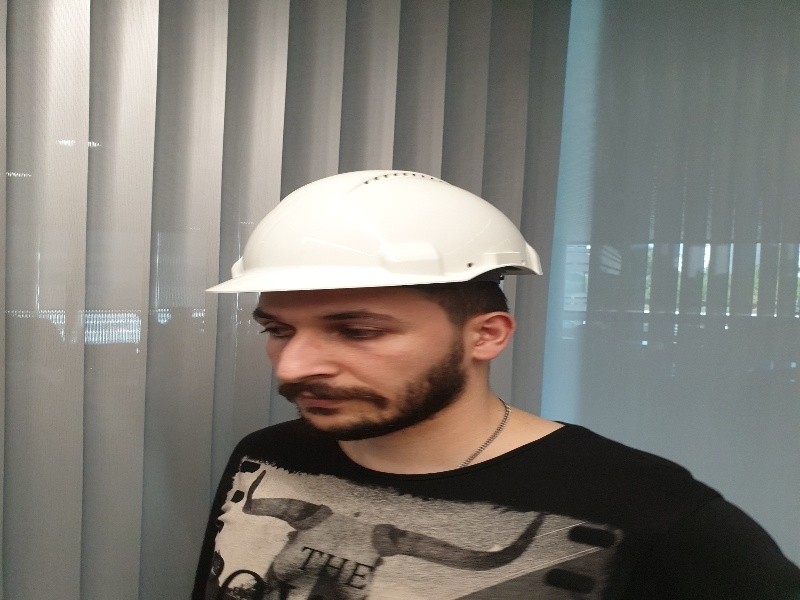Baret: (201, 168, 545, 292)
